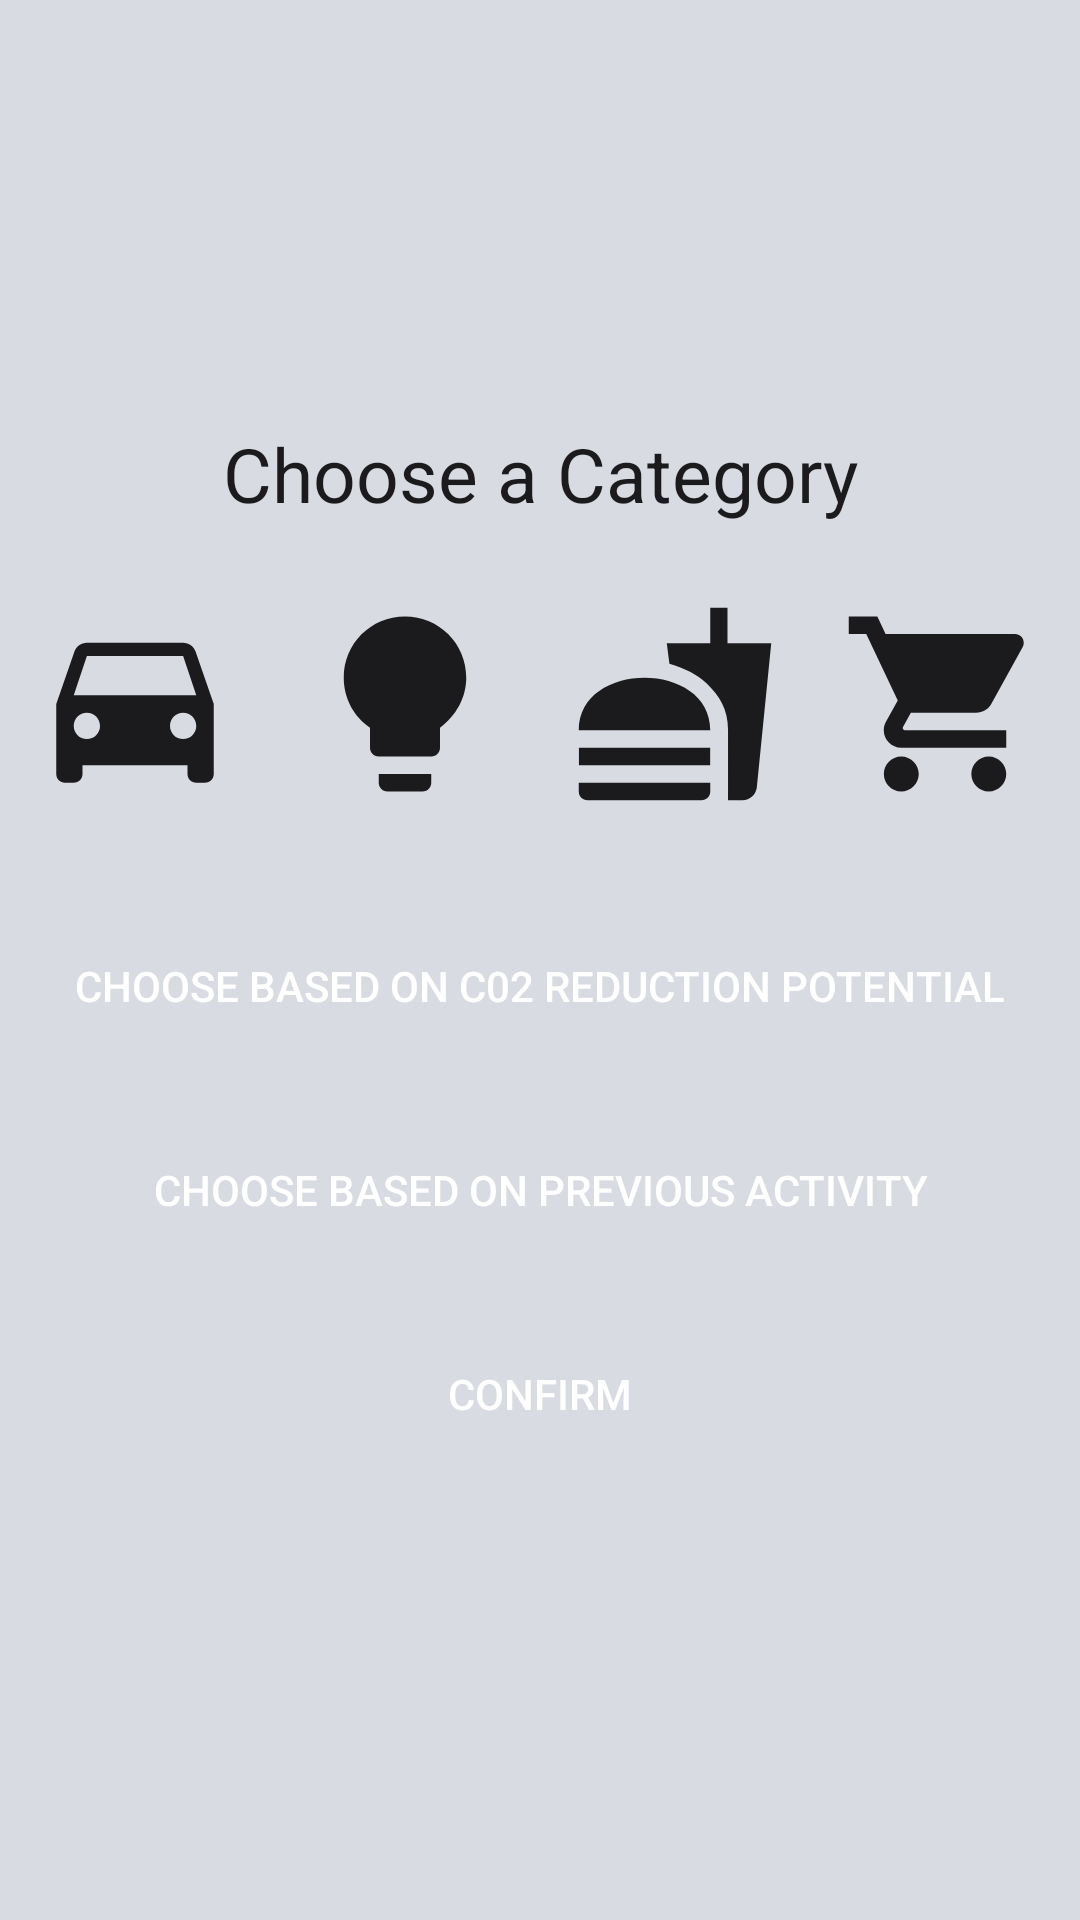

Screen size 1080px x 1920px. Icon name, then its box in pixels as (x1, y1, x2, y2):
Filter list of habits by consumption category: (848, 616, 1024, 792)
Filter list of habits by energy category: (343, 616, 467, 792)
Filter list of habits by food category: (578, 607, 772, 801)
Filter list of habits by transportation category: (56, 642, 214, 783)
